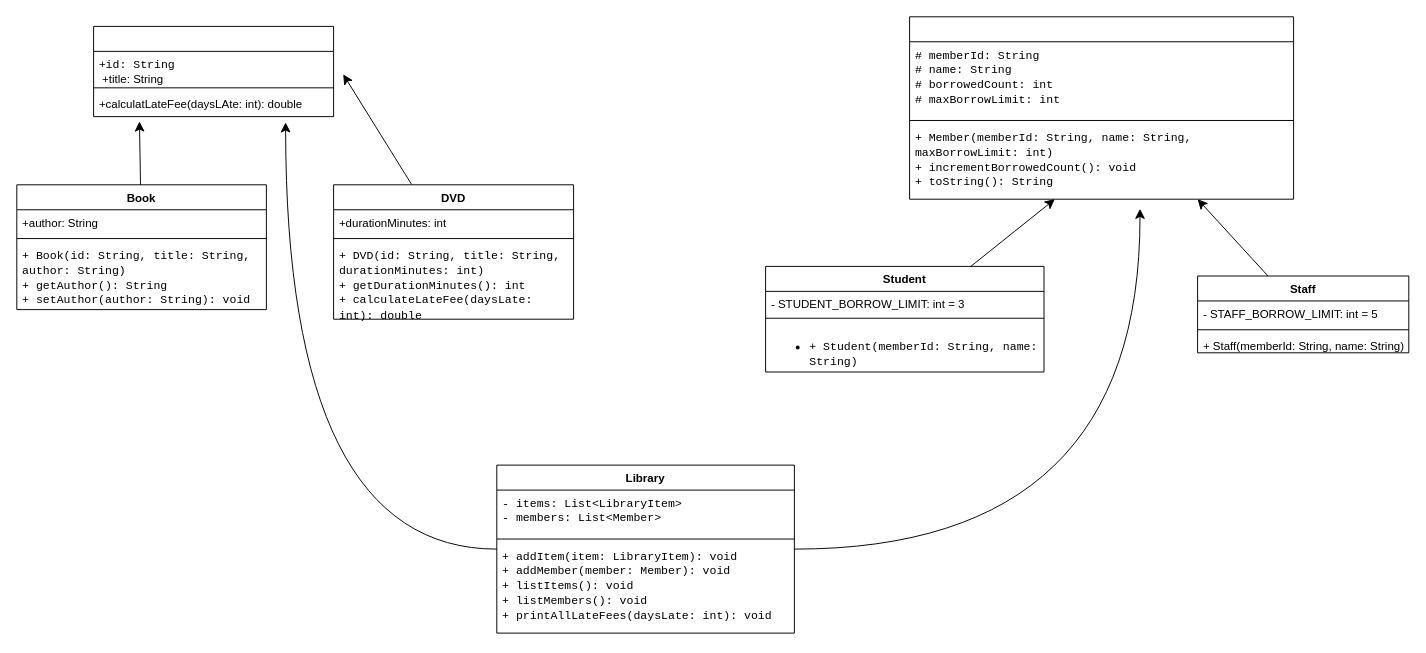
The diagram is 1426 pixels wide and 653 high, and some of its shapes have lost their labels. Here are the shapes that lost their labels. From the top down, the box of each, then its label:
(93, 25, 334, 117): LibraryItem
(909, 16, 1294, 199): Members
